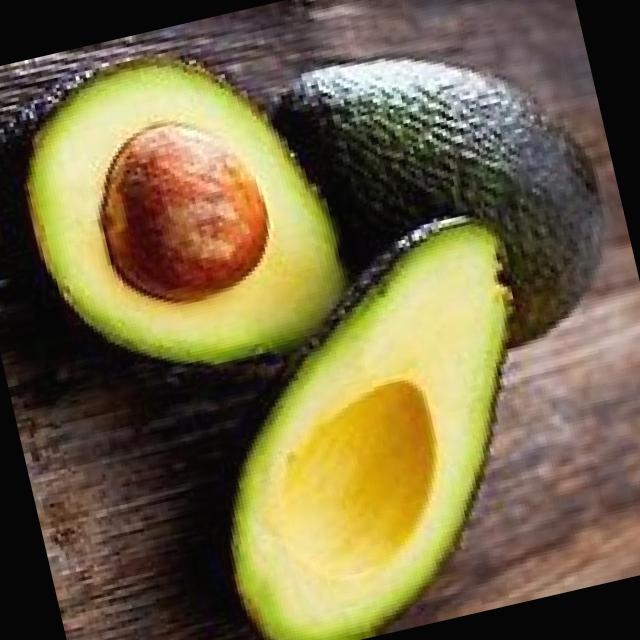avocado: (140, 201, 594, 640), (265, 0, 631, 393), (0, 27, 370, 406)
